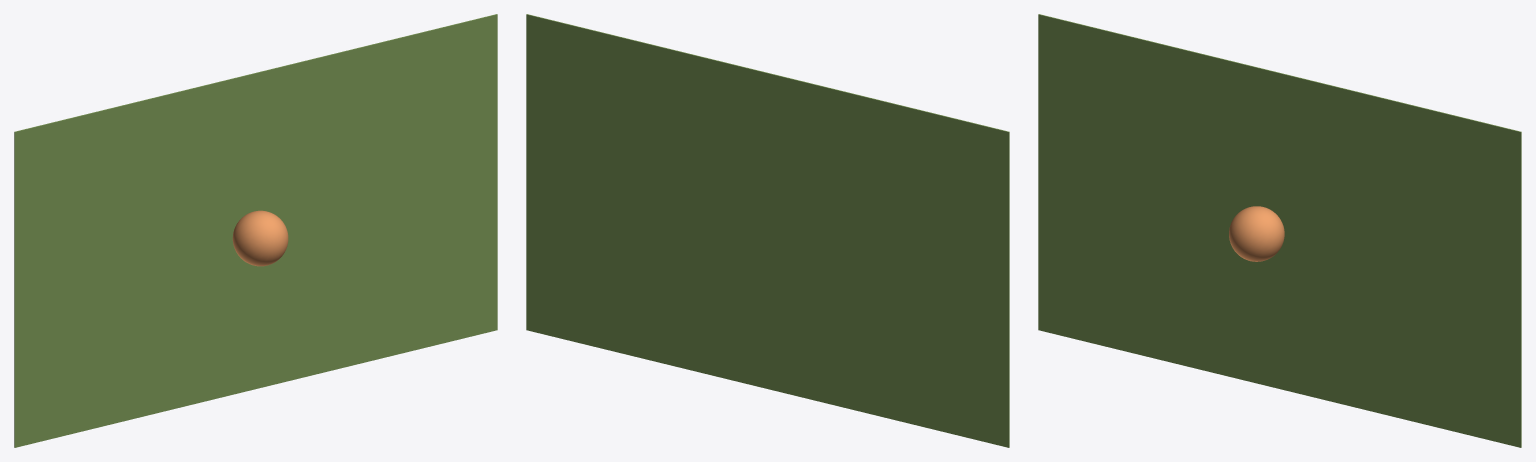
The picture shows the model from 3 angles, left to right: view 1: azimuth 30°, elevation 25°; view 2: azimuth 150°, elevation 25°; view 3: azimuth 330°, elevation 25°; orthographic projection.
Visible parts, largest first — view 1: Core (×2), CopperSphere; view 2: Core (×2); view 3: Core (×2), CopperSphere.
Boxes of the visible parts, x1,y1,x2,y2 form: Core (×2): (14, 14, 497, 447); CopperSphere: (232, 210, 288, 266); Core (×2): (526, 14, 1009, 447); Core (×2): (1038, 14, 1521, 447); CopperSphere: (1229, 206, 1284, 261).
Bounding box in the file's own units: 80 × 49.99 × 8.08.
